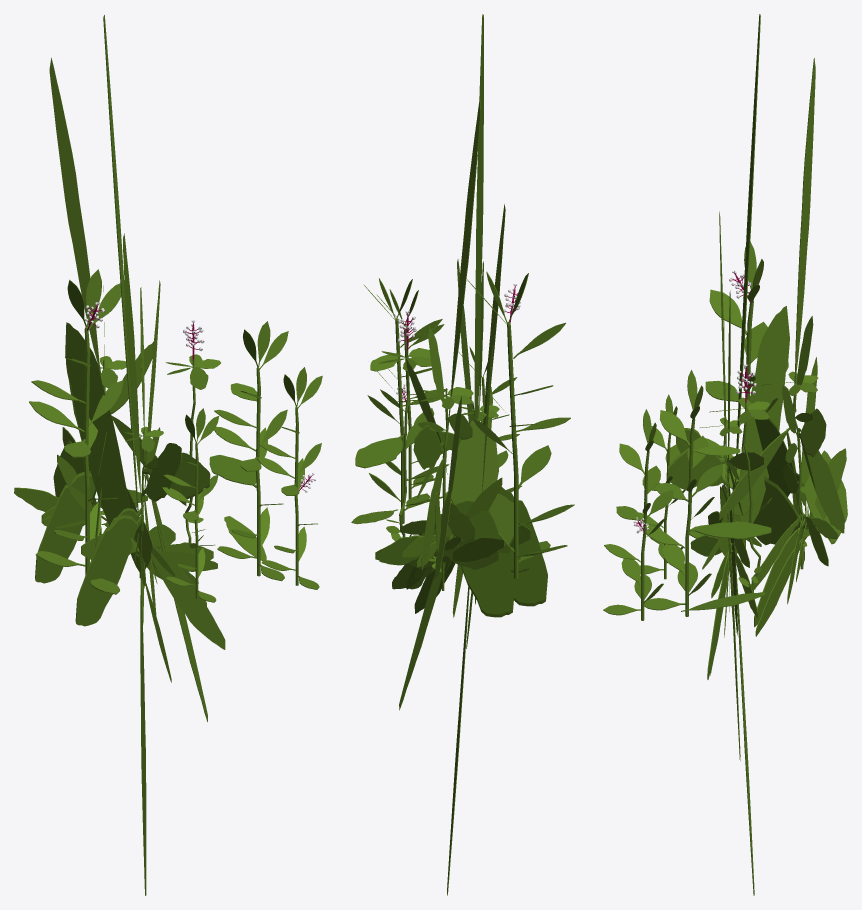
Rendered from dolls eyes berry.fbx.
The picture shows the model from 3 angles, left to right: view 1: azimuth 30°, elevation 25°; view 2: azimuth 150°, elevation 25°; view 3: azimuth 270°, elevation 25°; orthographic projection. The views are drawn at different scales.
Parts seen in each view (by area): view 1: Cylinder.015, Cylinder.012|Cylinder.004|Dupli|2.0.0.0.0.0.0.0.0.0, Cylinder.009, Cylinder.012|Cylinder.002|Dupli|17.0.0.0.0.0.0.0.0.0, Cylinder.008, Cylinder.011|Cylinder.002|Dupli|35.0.0.0.0.0.0.0.0.0, Cylinder.011|Cylinder.002|Dupli|17.0.0.0.0.0.0.0.0.0, Cylinder.010, Cylinder.012|Cylinder.002|Dupli|10.0.0.0.0.0.0.0.0.0, Cylinder.012|Cylinder.002|Dupli|5.0.0.0.0.0.0.0.0.0, Cylinder.012|Cylinder.004|Dupli|20.0.0.0.0.0.0.0.0.0, Cylinder (+12 smaller); view 2: Cylinder.015, Cylinder.011|Cylinder.002|Dupli|17.0.0.0.0.0.0.0.0.0, Cylinder.011|Cylinder.002|Dupli|21.0.0.0.0.0.0.0.0.0, Cylinder.009, Cylinder.012|Cylinder.002|Dupli|5.0.0.0.0.0.0.0.0.0, Cylinder.011|Cylinder.002|Dupli|35.0.0.0.0.0.0.0.0.0, Cylinder.012|Cylinder.002|Dupli|17.0.0.0.0.0.0.0.0.0, Cylinder, Cylinder.008, Cylinder.002, Cylinder.012|Cylinder.004|Dupli|20.0.0.0.0.0.0.0.0.0, Cylinder.012|Cylinder.004|Dupli|31.0.0.0.0.0.0.0.0.0 (+17 smaller); view 3: Cylinder.009, Cylinder.012|Cylinder.004|Dupli|2.0.0.0.0.0.0.0.0.0, Cylinder.008, Cylinder.015, Cylinder.011|Cylinder.002|Dupli|35.0.0.0.0.0.0.0.0.0, Cylinder.011|Cylinder.002|Dupli|5.0.0.0.0.0.0.0.0.0, Cylinder.012|Cylinder.002|Dupli|5.0.0.0.0.0.0.0.0.0, Cylinder, Cylinder.011|Cylinder.004|Dupli|30.0.0.0.0.0.0.0.0.0, Cylinder.011|Cylinder.002|Dupli|21.0.0.0.0.0.0.0.0.0, Cylinder.010, Cylinder.012|Cylinder.002|Dupli|35.0.0.0.0.0.0.0.0.0 (+15 smaller).
Boxes of the visible parts, x1=… form: Cylinder.015: x1=29, y1=269, x2=123, y2=594; Cylinder.012|Cylinder.004|Dupli|2.0.0.0.0.0.0.0.0.0: x1=65, y1=322, x2=140, y2=561; Cylinder.009: x1=214, y1=321, x2=288, y2=581; Cylinder.012|Cylinder.002|Dupli|17.0.0.0.0.0.0.0.0.0: x1=75, y1=515, x2=141, y2=626; Cylinder.008: x1=257, y1=367, x2=322, y2=589; Cylinder.011|Cylinder.002|Dupli|35.0.0.0.0.0.0.0.0.0: x1=49, y1=57, x2=103, y2=387; Cylinder.011|Cylinder.002|Dupli|17.0.0.0.0.0.0.0.0.0: x1=35, y1=472, x2=95, y2=583; Cylinder.010: x1=162, y1=408, x2=219, y2=602; Cylinder.012|Cylinder.002|Dupli|10.0.0.0.0.0.0.0.0.0: x1=151, y1=551, x2=225, y2=649; Cylinder.012|Cylinder.002|Dupli|5.0.0.0.0.0.0.0.0.0: x1=103, y1=15, x2=138, y2=511; Cylinder.012|Cylinder.004|Dupli|20.0.0.0.0.0.0.0.0.0: x1=123, y1=233, x2=142, y2=518; Cylinder: x1=166, y1=320, x2=220, y2=548; Cylinder.015: x1=467, y1=271, x2=574, y2=578; Cylinder.011|Cylinder.002|Dupli|17.0.0.0.0.0.0.0.0.0: x1=443, y1=501, x2=514, y2=617; Cylinder.011|Cylinder.002|Dupli|21.0.0.0.0.0.0.0.0.0: x1=445, y1=420, x2=498, y2=511; Cylinder.009: x1=363, y1=278, x2=449, y2=523; Cylinder.012|Cylinder.002|Dupli|5.0.0.0.0.0.0.0.0.0: x1=474, y1=14, x2=483, y2=419; Cylinder.011|Cylinder.002|Dupli|35.0.0.0.0.0.0.0.0.0: x1=448, y1=98, x2=480, y2=425; Cylinder.012|Cylinder.002|Dupli|17.0.0.0.0.0.0.0.0.0: x1=506, y1=490, x2=547, y2=606; Cylinder: x1=379, y1=311, x2=431, y2=541; Cylinder.008: x1=376, y1=289, x2=448, y2=498; Cylinder.002: x1=355, y1=435, x2=404, y2=468; Cylinder.012|Cylinder.004|Dupli|20.0.0.0.0.0.0.0.0.0: x1=483, y1=204, x2=505, y2=424; Cylinder.012|Cylinder.004|Dupli|31.0.0.0.0.0.0.0.0.0: x1=399, y1=557, x2=445, y2=710; Cylinder.009: x1=643, y1=370, x2=722, y2=616; Cylinder.012|Cylinder.004|Dupli|2.0.0.0.0.0.0.0.0.0: x1=739, y1=306, x2=789, y2=523; Cylinder.008: x1=603, y1=409, x2=673, y2=620; Cylinder.015: x1=689, y1=241, x2=788, y2=547; Cylinder.011|Cylinder.002|Dupli|35.0.0.0.0.0.0.0.0.0: x1=793, y1=58, x2=815, y2=405; Cylinder.011|Cylinder.002|Dupli|5.0.0.0.0.0.0.0.0.0: x1=732, y1=476, x2=807, y2=545; Cylinder.012|Cylinder.002|Dupli|5.0.0.0.0.0.0.0.0.0: x1=733, y1=14, x2=760, y2=521; Cylinder: x1=709, y1=364, x2=769, y2=592; Cylinder.011|Cylinder.004|Dupli|30.0.0.0.0.0.0.0.0.0: x1=800, y1=438, x2=844, y2=533; Cylinder.011|Cylinder.002|Dupli|21.0.0.0.0.0.0.0.0.0: x1=755, y1=411, x2=798, y2=497; Cylinder.010: x1=638, y1=394, x2=685, y2=579; Cylinder.012|Cylinder.002|Dupli|35.0.0.0.0.0.0.0.0.0: x1=667, y1=448, x2=725, y2=490.
Size of the model in its own units: 573 by 2036 by 523.
